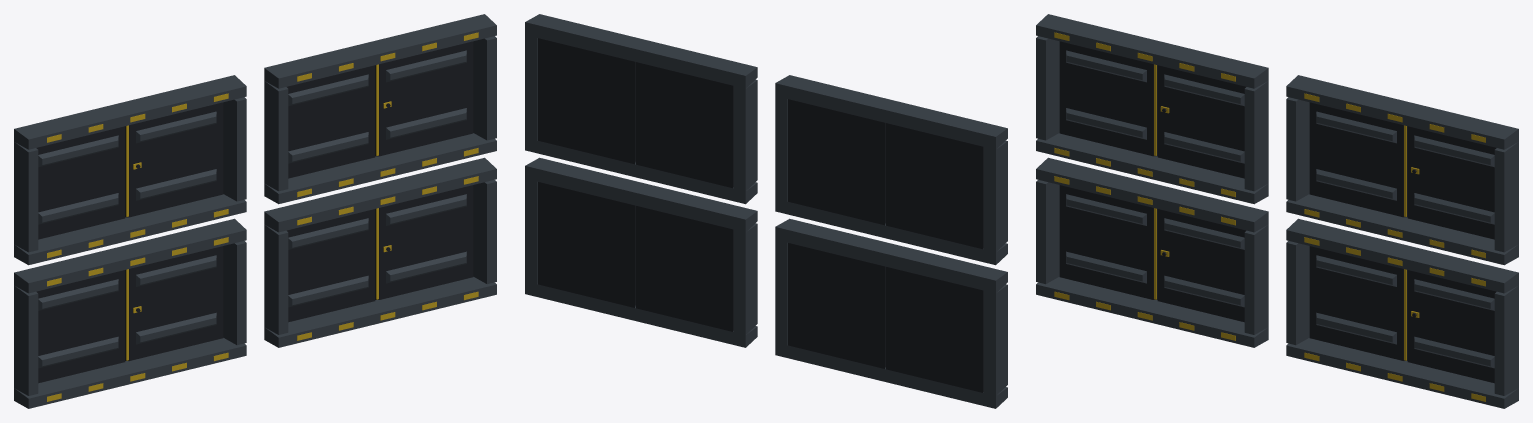
Rendered from ap4_doors.obj.
3 renders of one model, left to right at view 1: azimuth 30°, elevation 25°; view 2: azimuth 150°, elevation 25°; view 3: azimuth 330°, elevation 25°, orthographic.
Visible parts, largest first — view 1: ap4_doors; view 2: ap4_doors; view 3: ap4_doors.
Part boxes in pixels (x1,y1,x2,y2): ap4_doors: (14,14,496,408); ap4_doors: (525,14,1007,408); ap4_doors: (1036,14,1518,408).
Bounding box in the file's own units: 9.6 × 5.3 × 0.473.
